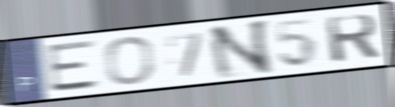5: (274, 18, 321, 69)
7: (165, 30, 205, 78)
E: (44, 38, 103, 95)
N: (206, 17, 274, 81)
O: (104, 35, 156, 86)
R: (323, 12, 382, 65)
